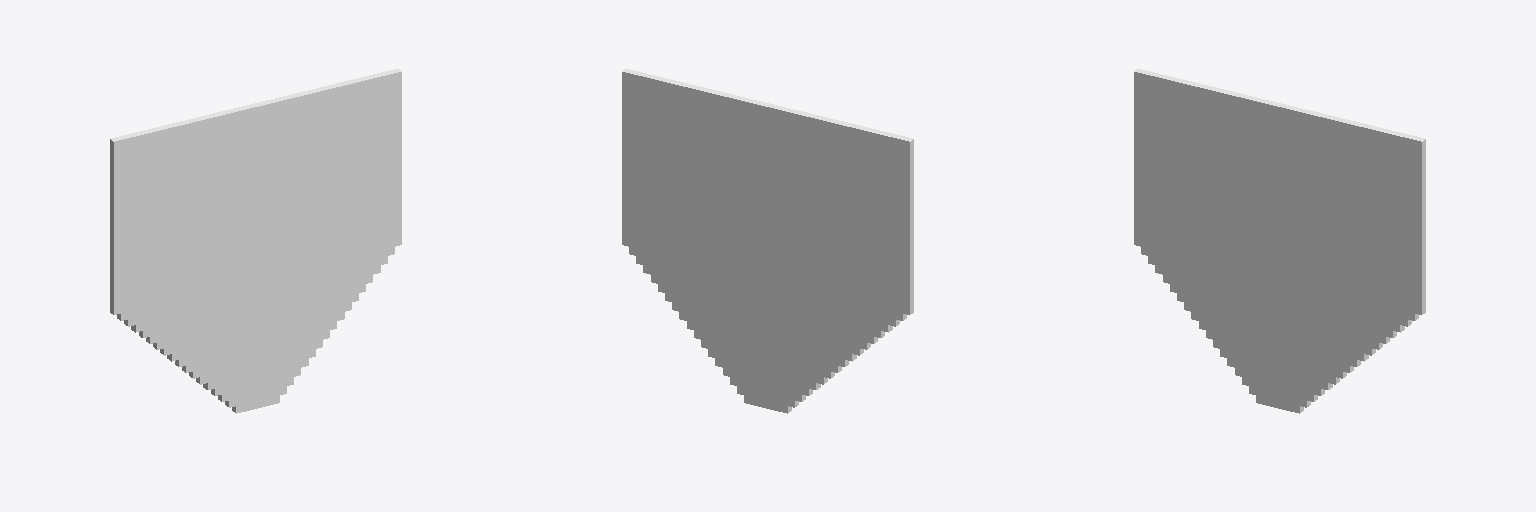
Rendered from Gerb.obj.
3 renders of one model, left to right at view 1: azimuth 30°, elevation 25°; view 2: azimuth 150°, elevation 25°; view 3: azimuth 330°, elevation 25°, orthographic.
Parts seen in each view (by area): view 1: object 1; view 2: object 1; view 3: object 1.
Boxes of the visible parts, box(x1,y1,x2,y2) form: object 1: box(110, 69, 401, 413); object 1: box(622, 69, 913, 413); object 1: box(1134, 69, 1425, 413).
Size of the model in its own units: 16 by 16 by 0.4.